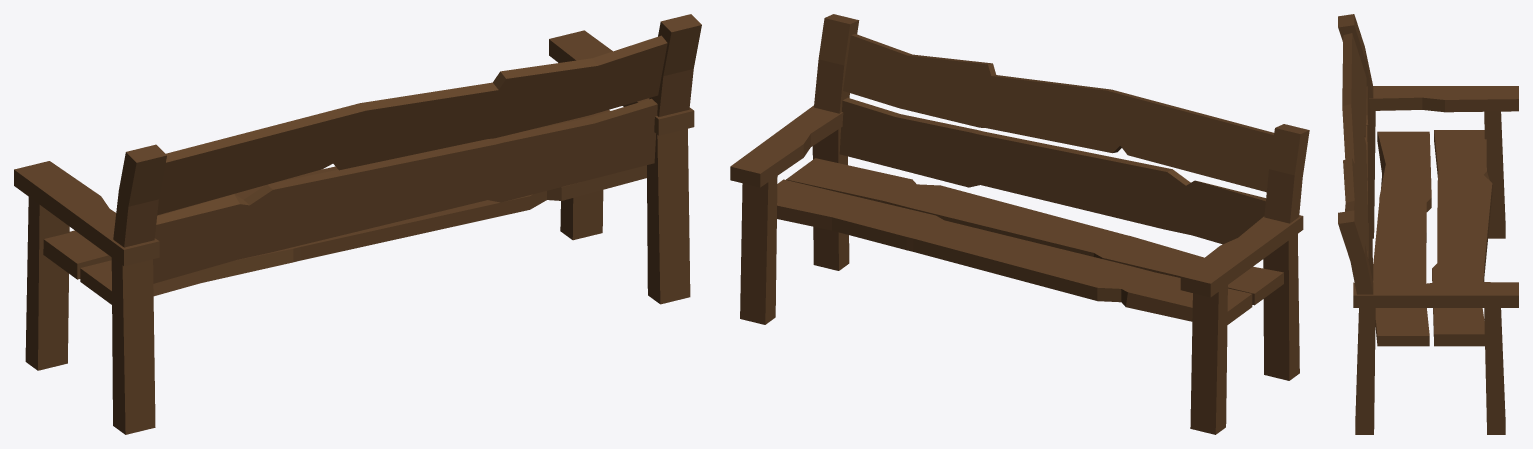
Rendered from Bench_1.gltf.
The picture shows the model from 3 angles, left to right: view 1: azimuth 30°, elevation 25°; view 2: azimuth 150°, elevation 25°; view 3: azimuth 270°, elevation 25°; orthographic projection. The views are drawn at different scales.
Visible parts, largest first — view 1: Bench_1; view 2: Bench_1; view 3: Bench_1.
Part boxes in pixels (bbox=[...]): Bench_1: bbox=[14, 14, 701, 434]; Bench_1: bbox=[730, 14, 1309, 434]; Bench_1: bbox=[1338, 14, 1518, 434].
Size of the model in its own units: 0.665 by 0.3158 by 0.2424.
